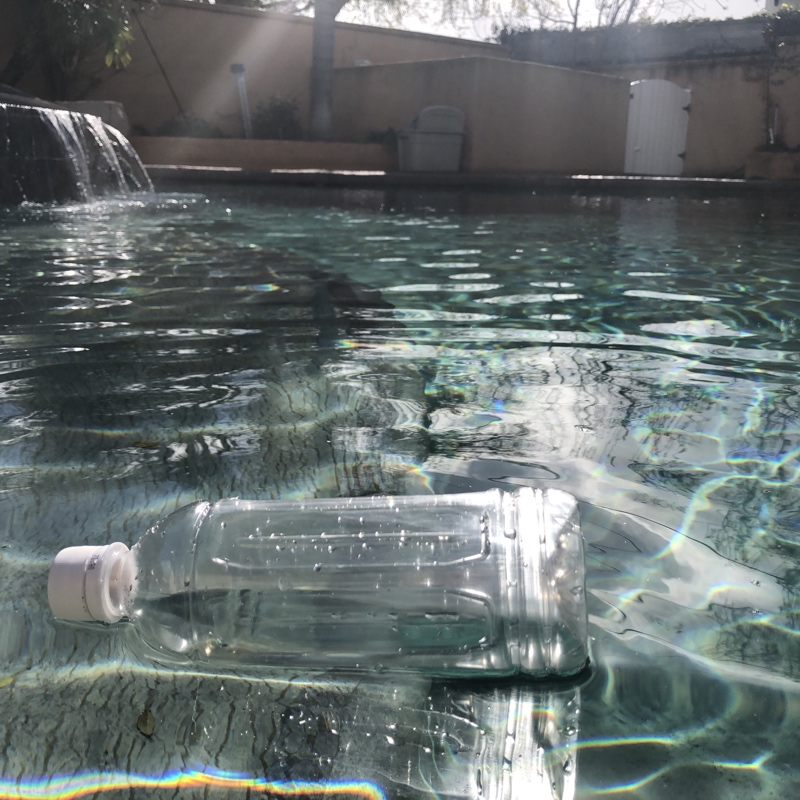Plastic Bottle: (37, 478, 593, 693)
